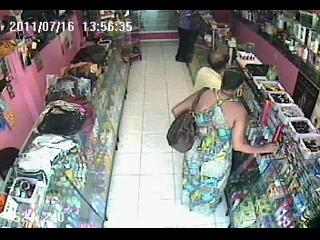Normal: (170, 70, 280, 225), (166, 86, 209, 154), (192, 50, 230, 93), (174, 10, 202, 66)
